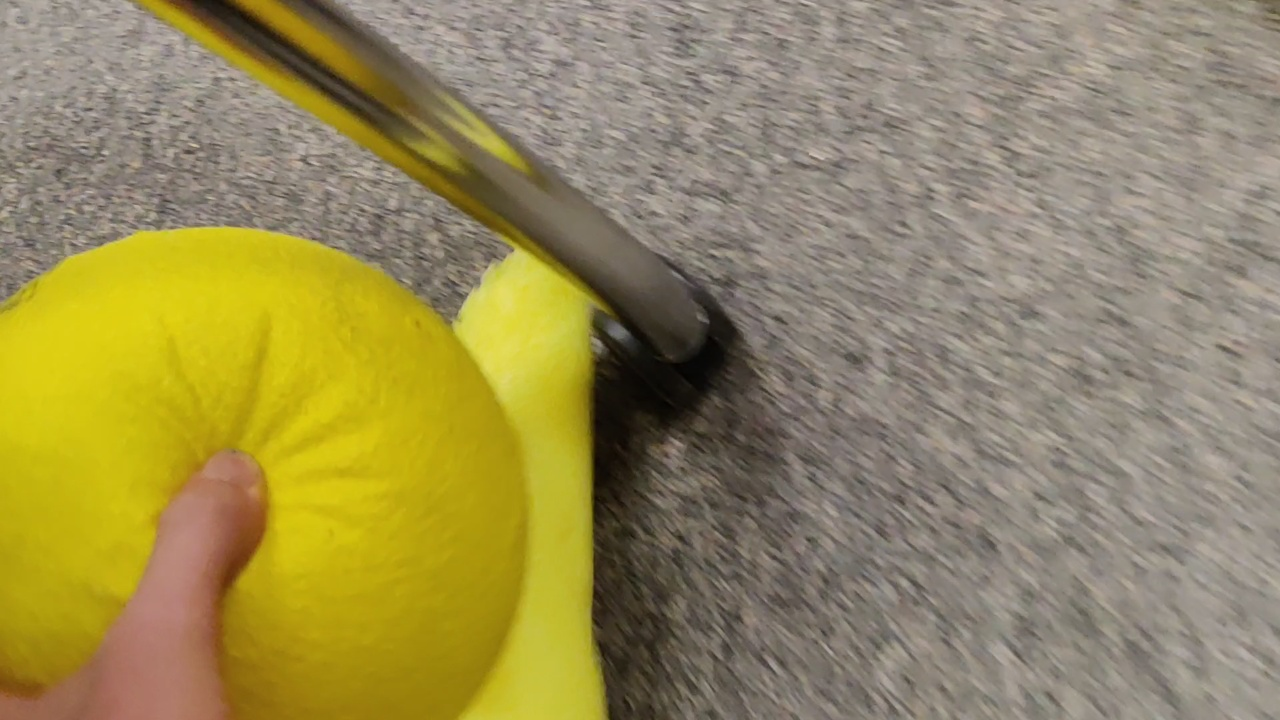Ball: (1, 234, 526, 710)
